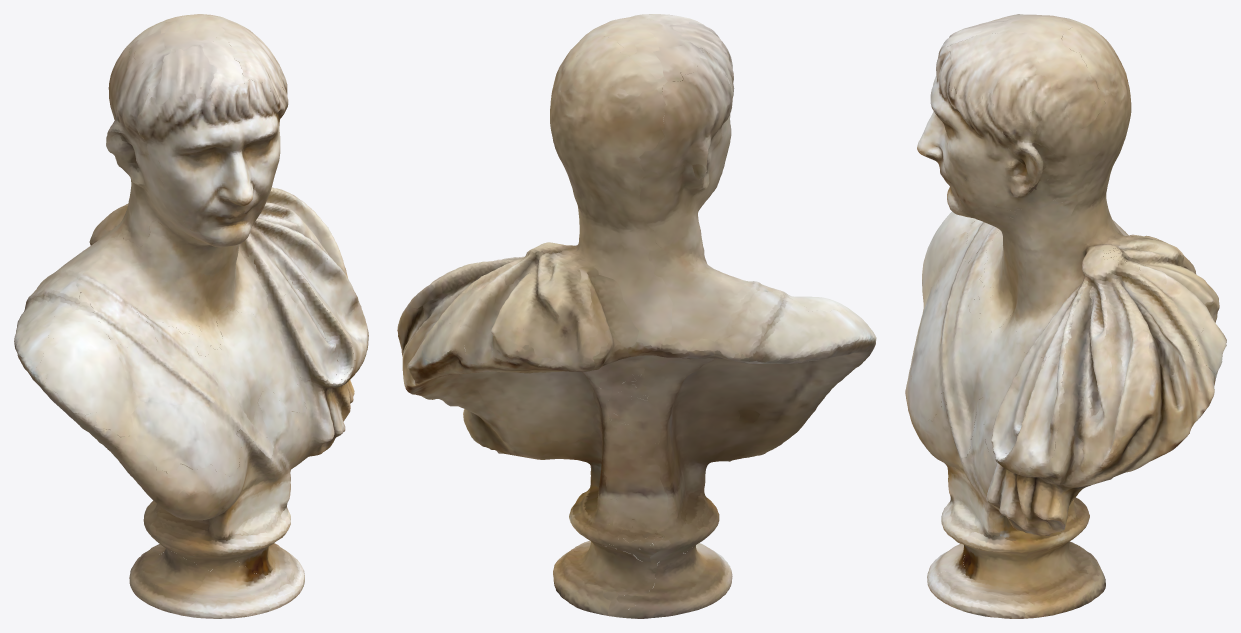
File: trajan_opt.glb
3 views of the same model, side by side, from view 1: azimuth 30°, elevation 25°; view 2: azimuth 150°, elevation 25°; view 3: azimuth 270°, elevation 25° (orthographic). The views are drawn at different scales.
Visible parts, largest first — view 1: Object_2, Object_3; view 2: Object_2, Object_3; view 3: Object_2, Object_3.
Boxes of the visible parts, x1,y1,x2,y2 form: Object_2: [14, 14, 368, 617]; Object_3: [36, 14, 368, 618]; Object_2: [397, 14, 876, 618]; Object_3: [422, 14, 876, 618]; Object_2: [905, 14, 1226, 618]; Object_3: [910, 18, 1226, 582].
Bounding box in the file's own units: 0.5167 × 0.7053 × 0.37.
1 material, 1 textured.
